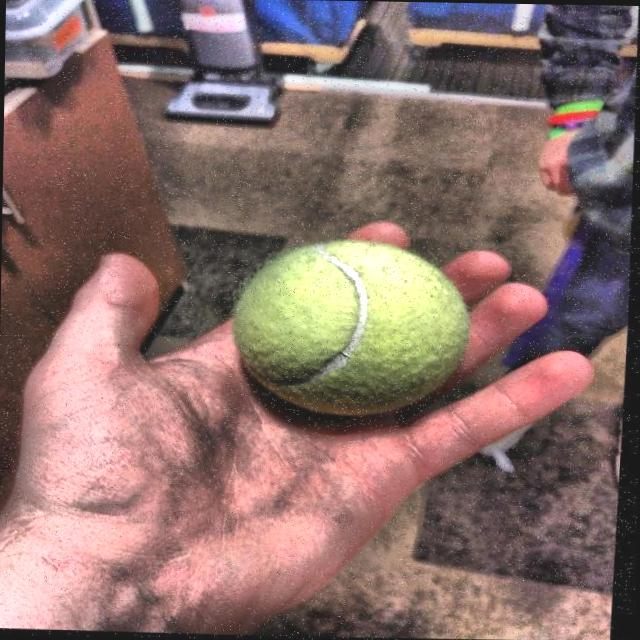Tennis Ball: (213, 231, 484, 432)
